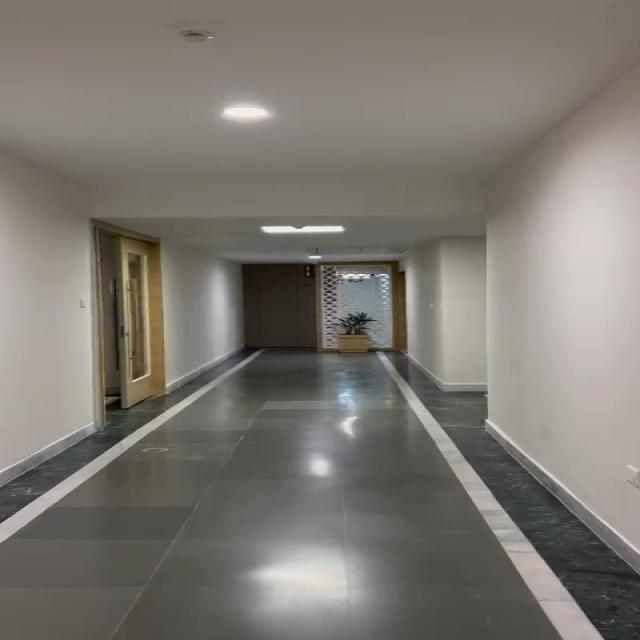door: (98, 216, 172, 420)
floor: (0, 448, 611, 640), (224, 356, 438, 466)
furniture: (326, 308, 389, 358)
wall: (406, 186, 640, 398), (0, 153, 95, 440), (166, 240, 255, 360)
